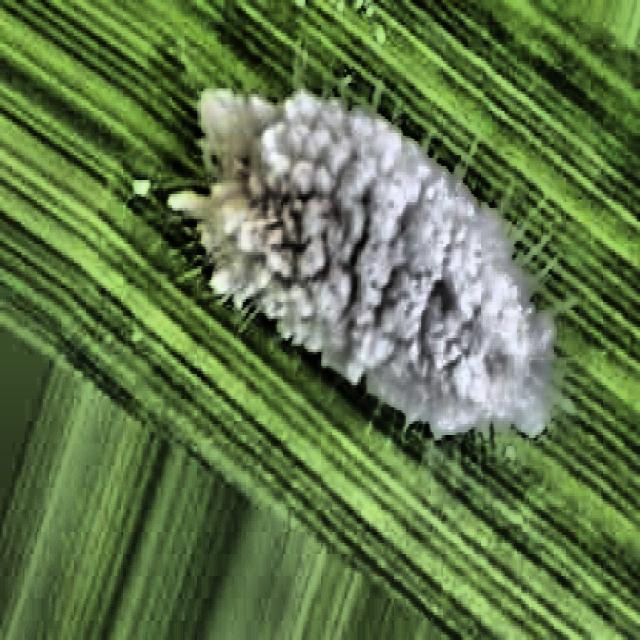Mealy-bug: (92, 39, 579, 533)
